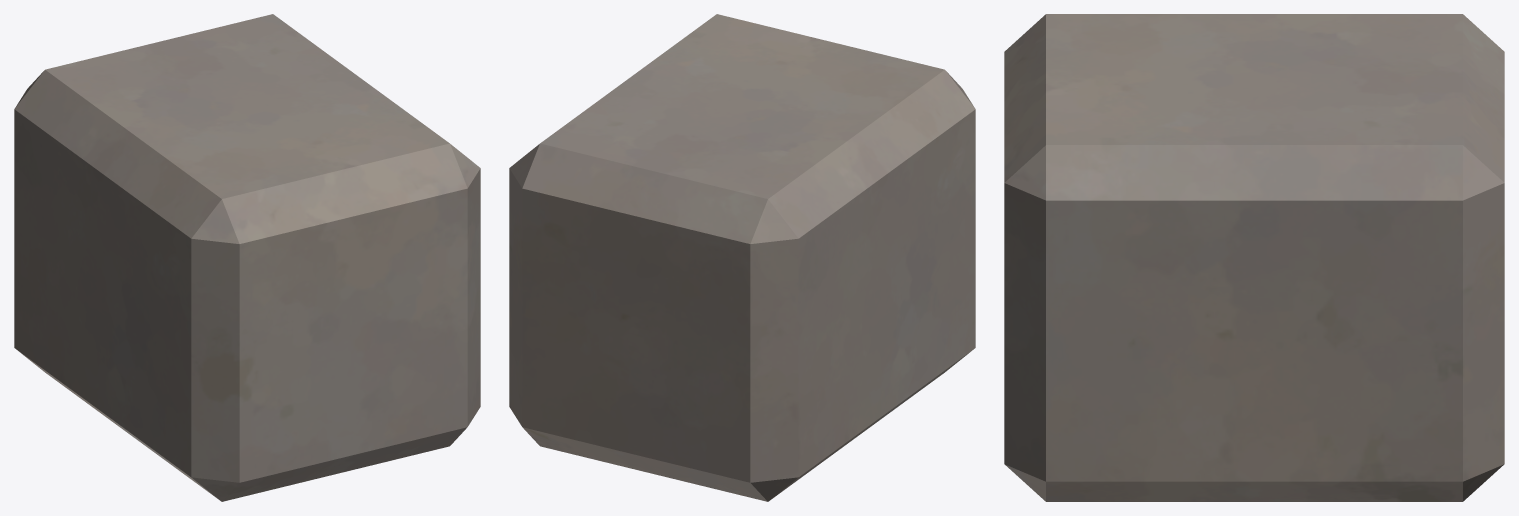
The model's file is SM_Stone_04.fbx.
3 renders of one model, left to right at view 1: azimuth 30°, elevation 25°; view 2: azimuth 150°, elevation 25°; view 3: azimuth 270°, elevation 25°, orthographic. The views are drawn at different scales.
Visible parts, largest first — view 1: SM_Stone_04_LOD0; view 2: SM_Stone_04_LOD0; view 3: SM_Stone_04_LOD0.
Boxes of the visible parts, <box> form: SM_Stone_04_LOD0: <box>14,14,480,501</box>; SM_Stone_04_LOD0: <box>509,14,975,501</box>; SM_Stone_04_LOD0: <box>1004,14,1504,501</box>.
Bounding box in the file's own units: 50 × 63.53 × 50.
Materials: 1 (1 with a texture image).
